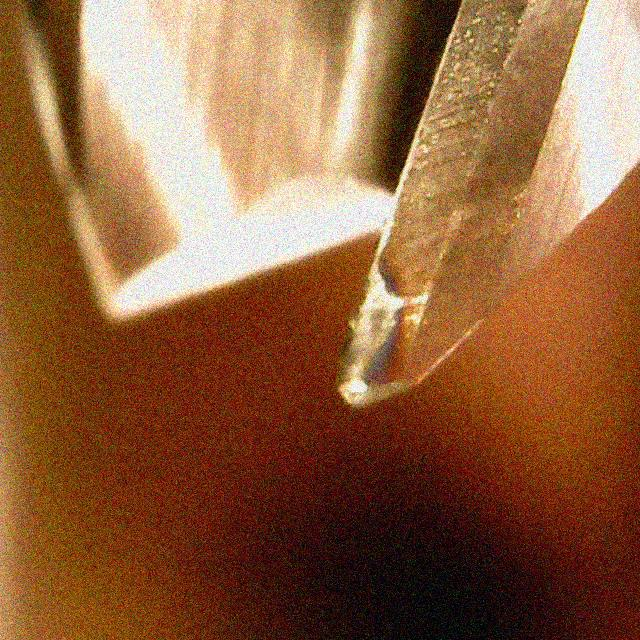Tool-wear-class-1: (332, 85, 512, 419)
